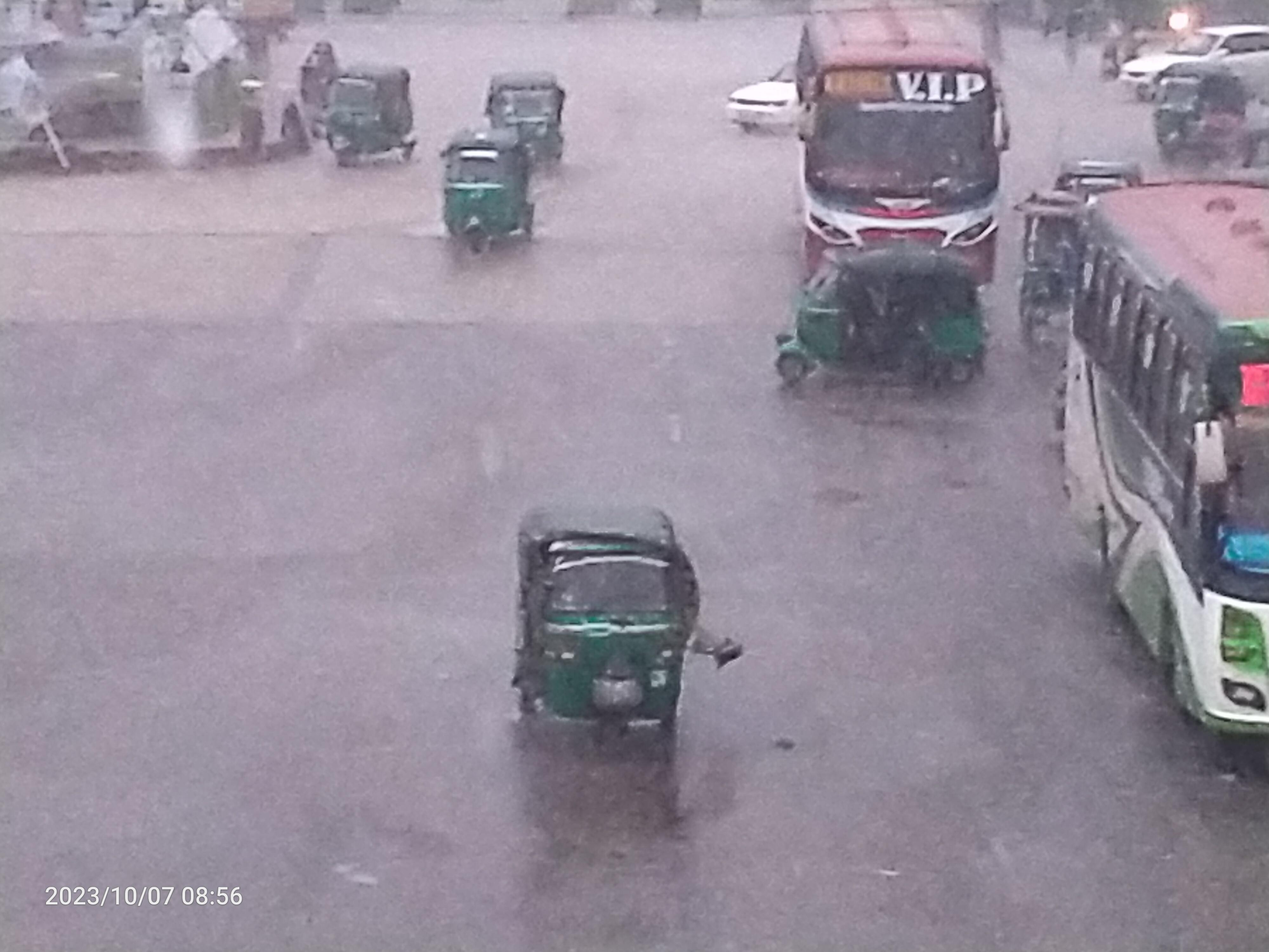Bus: (1045, 155, 1269, 757), (796, 0, 1023, 296)
Car: (1101, 13, 1269, 102), (712, 42, 808, 151)
